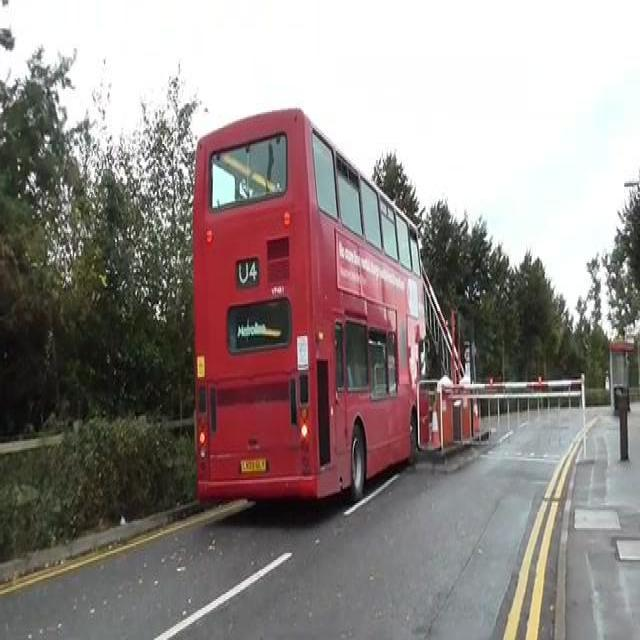motorcycle: (191, 100, 436, 500)
